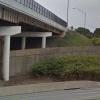Bridge: (5, 0, 75, 54)
